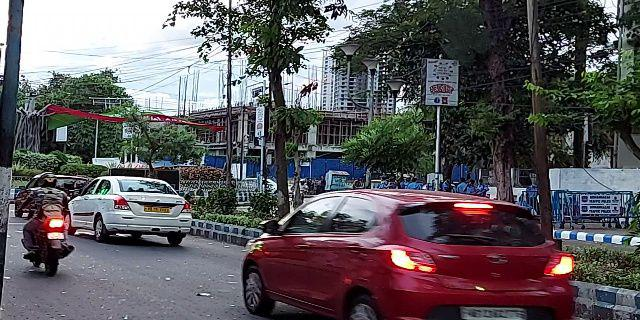Car: (243, 187, 581, 320), (73, 168, 197, 249)
Motorbike: (23, 170, 77, 285)
